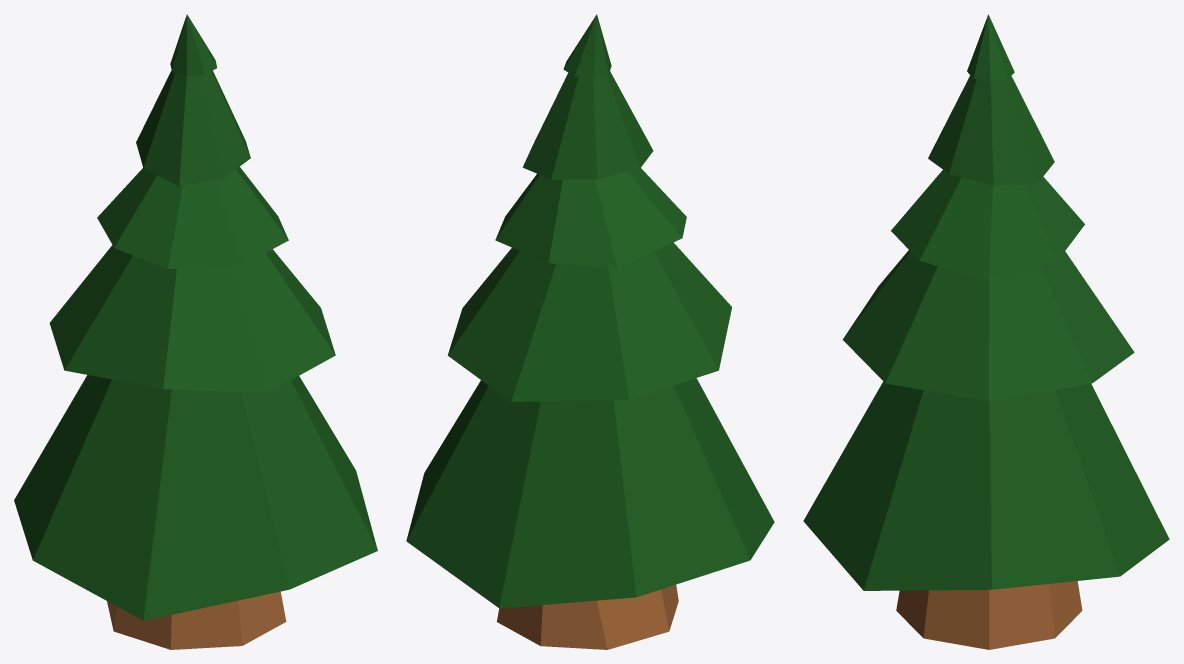
Rendered from low_poly_spruce_tree_01.glb.
3 renders of one model, left to right at view 1: azimuth 30°, elevation 25°; view 2: azimuth 150°, elevation 25°; view 3: azimuth 270°, elevation 25°, orthographic.
Visible parts, largest first — view 1: Circle_2; view 2: Circle_2; view 3: Circle_2.
Part boxes in pixels (x1,y1,x2,y2): Circle_2: (14,14,377,649); Circle_2: (406,14,774,649); Circle_2: (803,14,1169,649).
Size of the model in its own units: 3.98 by 7.02 by 3.93.
